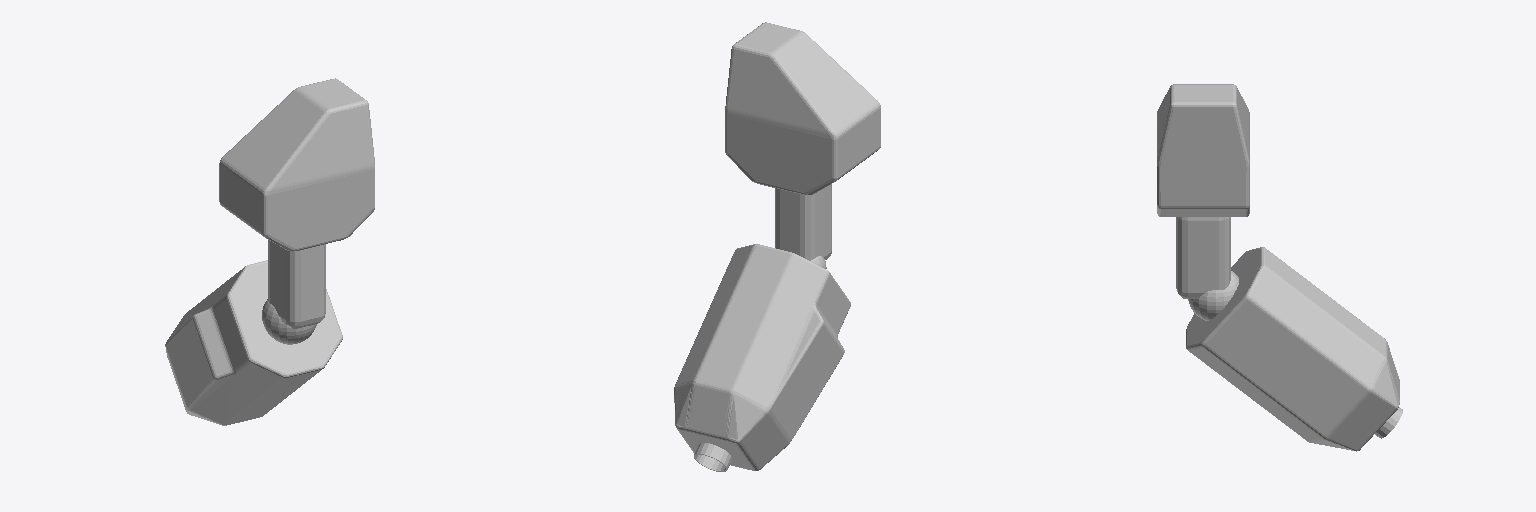
File: MeleeRobot_leftarm.obj
3 renders of one model, left to right at view 1: azimuth 30°, elevation 25°; view 2: azimuth 150°, elevation 25°; view 3: azimuth 270°, elevation 25°, orthographic.
Visible parts, largest first — view 1: Left_Arm Core, Left_Arm Core L_Upper_Arm L_Elbow L_Arm_Cannon, Left_Arm Core L_Upper_Arm, Left_Arm Core L_Upper_Arm L_Elbow; view 2: Left_Arm Core L_Upper_Arm L_Elbow L_Arm_Cannon, Left_Arm Core, Left_Arm Core L_Upper_Arm, Left_Arm Core L_Upper_Arm L_Elbow L_Arm_Cannon LCannon_Barrel RC; view 3: Left_Arm Core L_Upper_Arm L_Elbow L_Arm_Cannon, Left_Arm Core, Left_Arm Core L_Upper_Arm, Left_Arm Core L_Upper_Arm L_Elbow.
Part boxes in pixels (left/top/right/bottom): Left_Arm Core: left=219, top=78, right=374, bottom=251; Left_Arm Core L_Upper_Arm L_Elbow L_Arm_Cannon: left=165, top=260, right=342, bottom=425; Left_Arm Core L_Upper_Arm: left=268, top=240, right=325, bottom=328; Left_Arm Core L_Upper_Arm L_Elbow: left=262, top=299, right=316, bottom=344; Left_Arm Core L_Upper_Arm L_Elbow L_Arm_Cannon: left=674, top=244, right=850, bottom=470; Left_Arm Core: left=725, top=22, right=880, bottom=194; Left_Arm Core L_Upper_Arm: left=775, top=184, right=831, bottom=260; Left_Arm Core L_Upper_Arm L_Elbow L_Arm_Cannon LCannon_Barrel RC: left=694, top=443, right=731, bottom=471; Left_Arm Core L_Upper_Arm L_Elbow L_Arm_Cannon: left=1186, top=247, right=1399, bottom=451; Left_Arm Core: left=1157, top=84, right=1249, bottom=216; Left_Arm Core L_Upper_Arm: left=1176, top=217, right=1230, bottom=298; Left_Arm Core L_Upper_Arm L_Elbow: left=1188, top=271, right=1238, bottom=320.
Size of the model in its own units: 1.34 by 3.91 by 2.41.